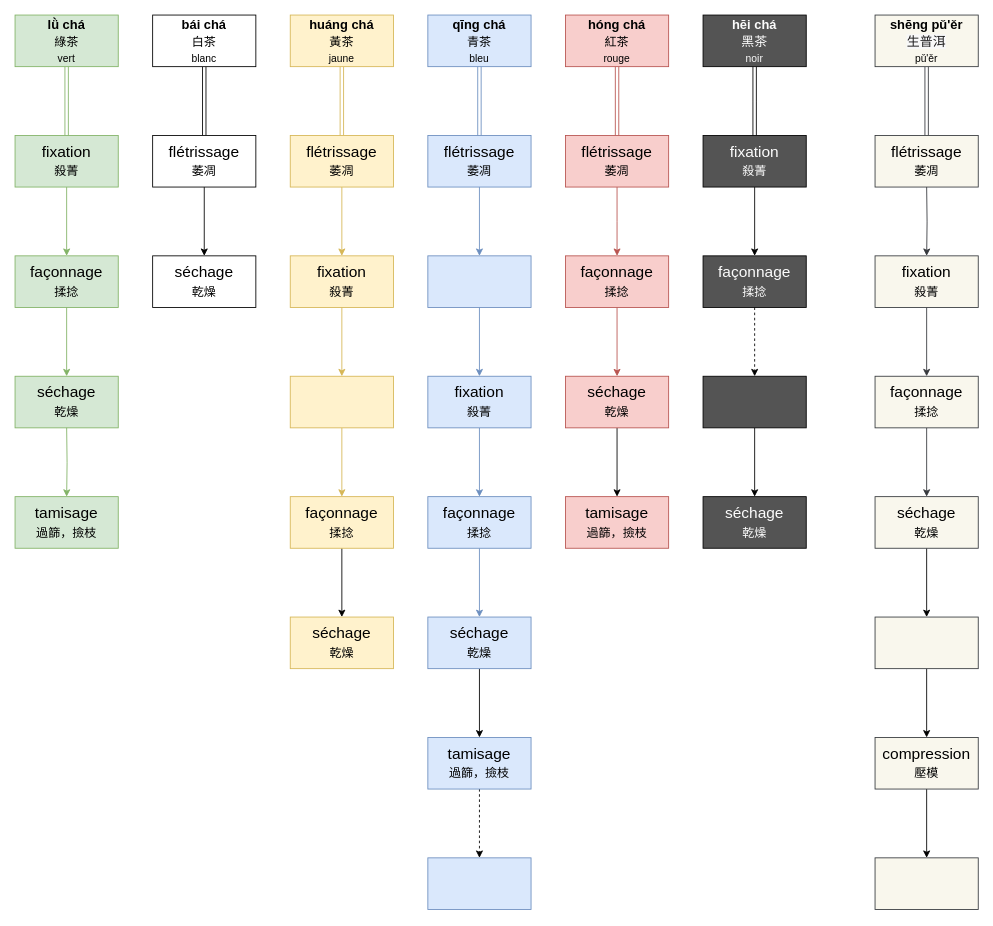
Image size: 993x926. Some labels were removed from this diagram. Here are the shapes that lost their labels. From the top down, the centre of each, then its label:
(479,281): fermentation froissage 做菁，發酵
(341,401): étouffage 悶黃
(754,401): sudation 渥堆
(926,642): pesage 稱重
(479,883): torréfaction 焙火
(926,883): post-fermentation 倉儲，後發酵
